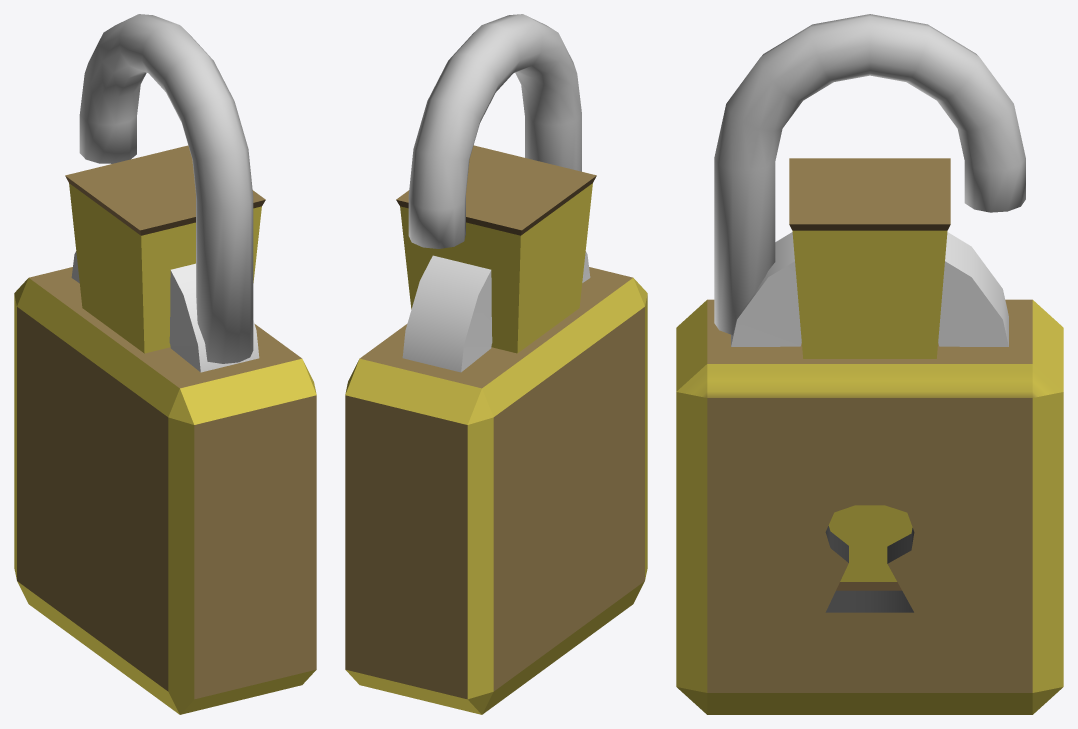
Rendered from MapPointerV2.fbx.
3 renders of one model, left to right at view 1: azimuth 30°, elevation 25°; view 2: azimuth 150°, elevation 25°; view 3: azimuth 270°, elevation 25°, orthographic. The views are drawn at different scales.
Parts seen in each view (by area): view 1: CandadoDown, CandadoUp, ExlamationYellow, MapPointer; view 2: CandadoDown, ExlamationYellow, CandadoUp, MapPointer; view 3: CandadoDown, ExlamationYellow, CandadoUp, MapPointer.
Boxes of the visible parts, x1=… form: CandadoDown: x1=14, y1=267, x2=316, y2=714; CandadoUp: x1=79, y1=14, x2=253, y2=363; ExlamationYellow: x1=65, y1=145, x2=265, y2=353; MapPointer: x1=71, y1=251, x2=259, y2=372; CandadoDown: x1=345, y1=267, x2=647, y2=714; ExlamationYellow: x1=396, y1=145, x2=596, y2=353; CandadoUp: x1=408, y1=14, x2=581, y2=248; MapPointer: x1=402, y1=251, x2=590, y2=372; CandadoDown: x1=676, y1=299, x2=1063, y2=714; ExlamationYellow: x1=789, y1=158, x2=950, y2=590; CandadoUp: x1=714, y1=14, x2=1025, y2=335; MapPointer: x1=731, y1=232, x2=1008, y2=346.
Size of the model in its own units: 20.33 by 82.67 by 43.53.
